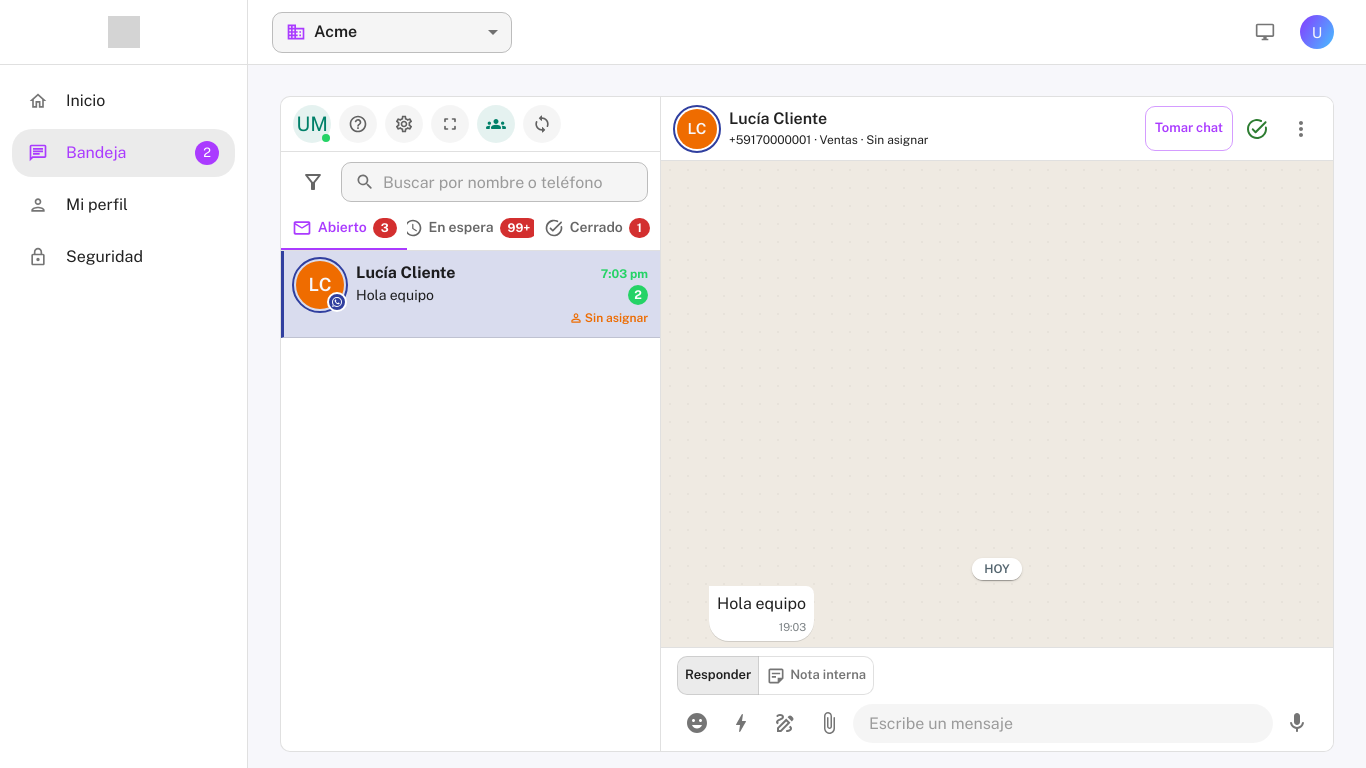
Test: Inbox › removes chat content after server denies further access
The width and height of the screenshot is (1366, 768).
(page scrolled)
expect the text box named "Escribir respuesta" is shown: met, box left=869, top=712, right=1257, bottom=735
Click the button "Tomar chat": (1189, 128) left=1145, top=106, right=1233, bottom=151
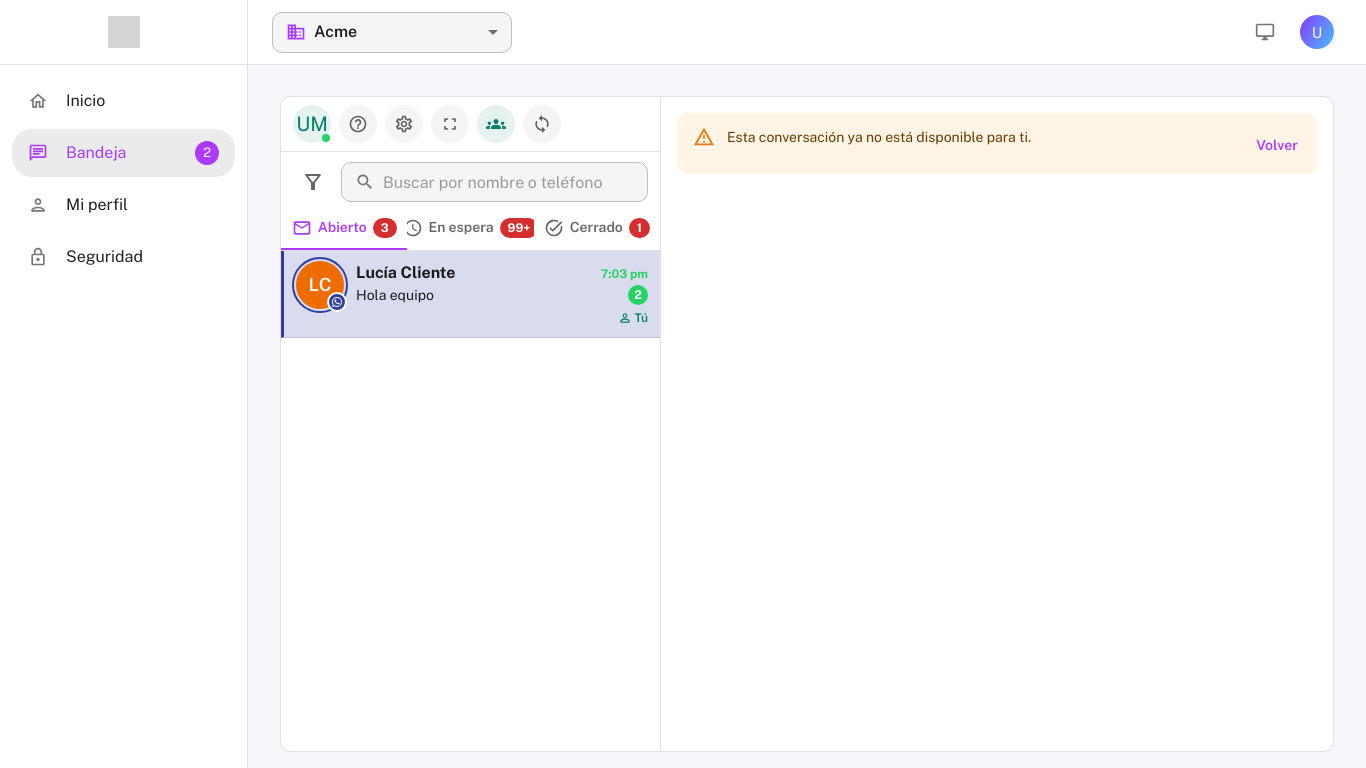
expect the text "Esta conversación ya no está disponible para ti." is shown: met, box left=727, top=129, right=1031, bottom=145
